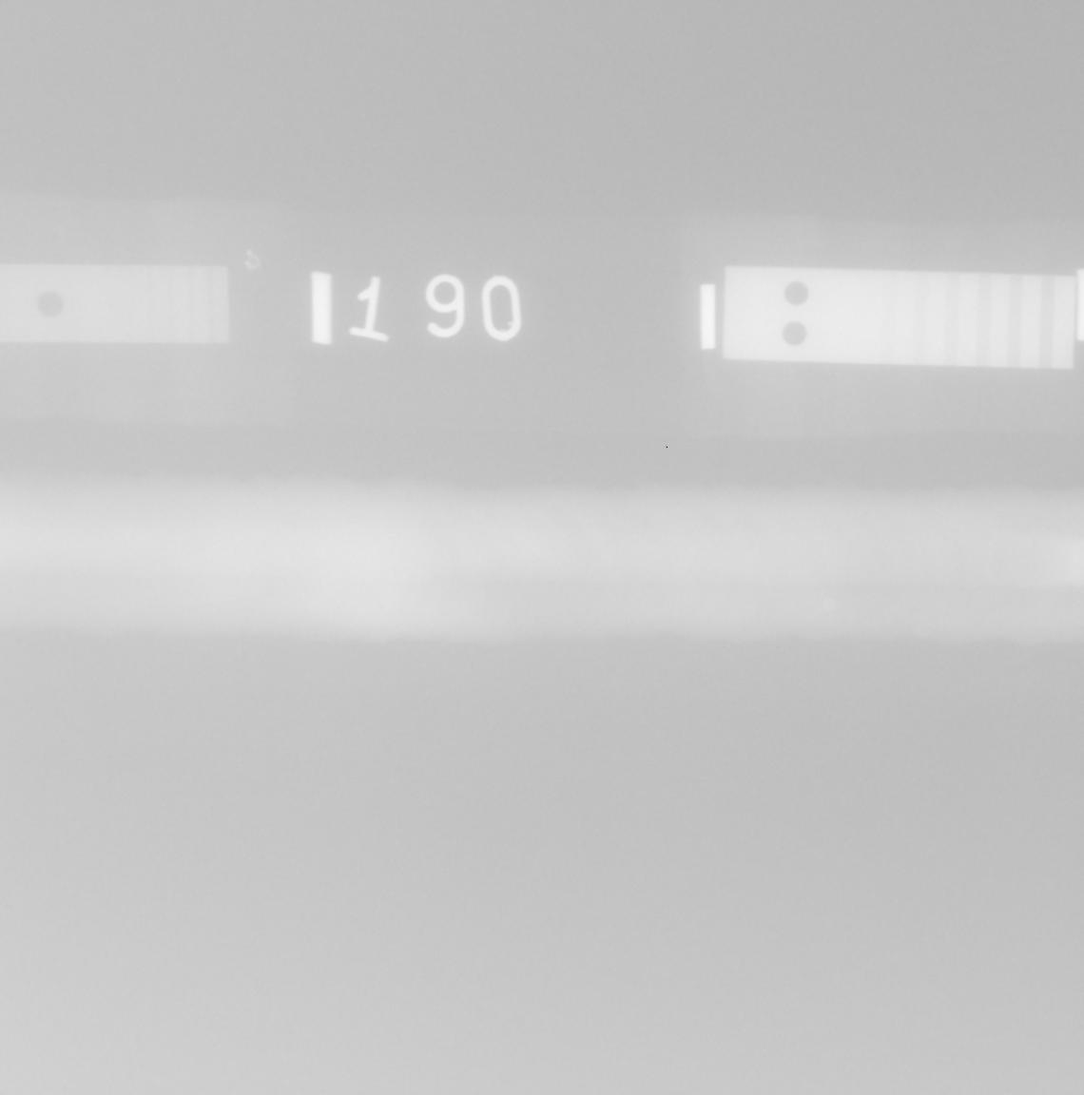Reference Standard 2: (722, 266, 1076, 370)
